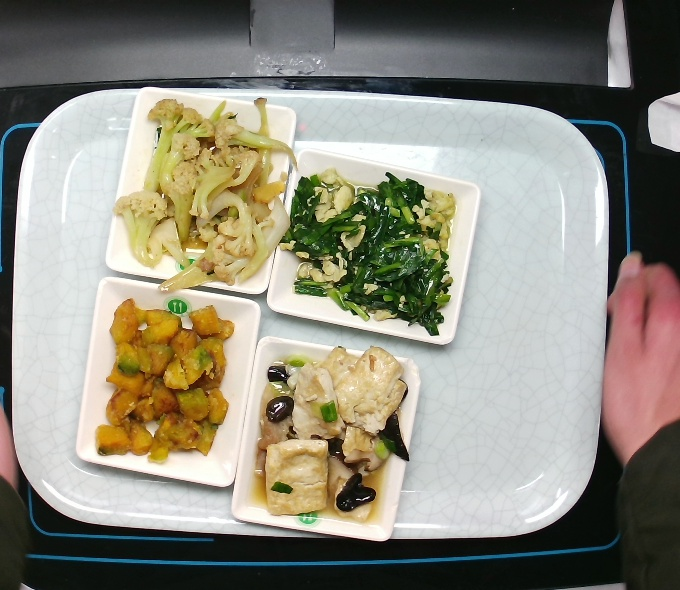wcq-DanHuangNanGua: (84, 292, 237, 473)
wcq-JiaChangDouFu: (244, 344, 447, 527)
wcq-JiuCaiJiDan: (283, 168, 455, 341)
wcq-QiuCai: (112, 92, 306, 299)
